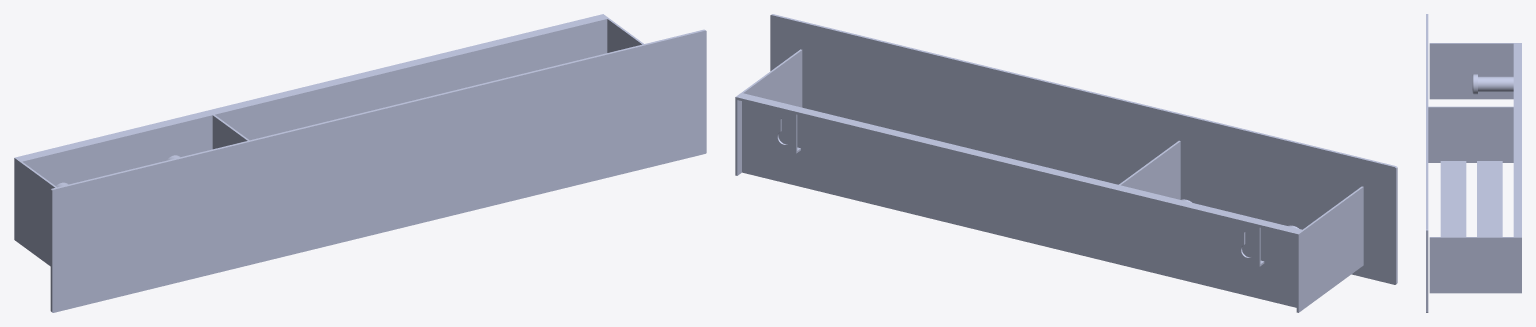
The model's file is skyline-patron.6eff7e2ad9.glb.
3 renders of one model, left to right at view 1: azimuth 30°, elevation 25°; view 2: azimuth 150°, elevation 25°; view 3: azimuth 270°, elevation 25°, orthographic. The views are drawn at different scales.
Parts seen in each view (by area): view 1: NAUO1; view 2: NAUO1; view 3: NAUO1.
Boxes of the visible parts, x1,y1,x2,y2 form: NAUO1: [14, 14, 706, 312]; NAUO1: [735, 14, 1397, 312]; NAUO1: [1426, 14, 1521, 312].
Bounding box in the file's own units: 0.5 × 0.09 × 0.0935.
